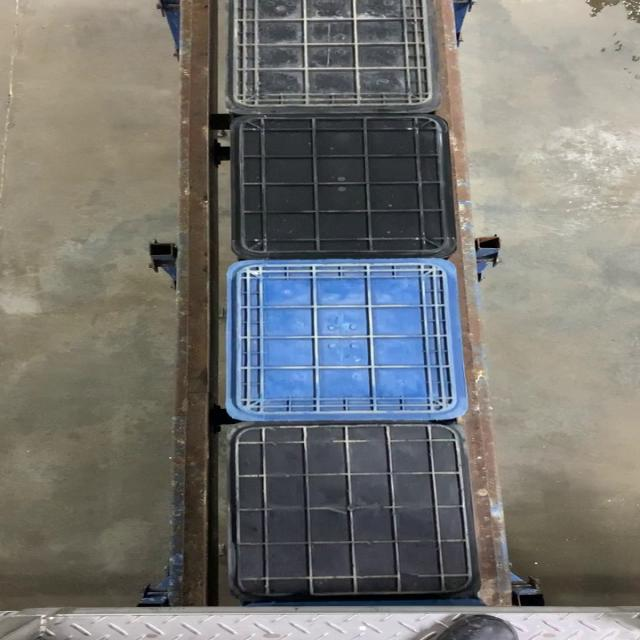Box: (223, 420, 479, 596), (219, 260, 471, 420), (228, 116, 458, 258)
